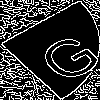G: (25, 25, 100, 86)
